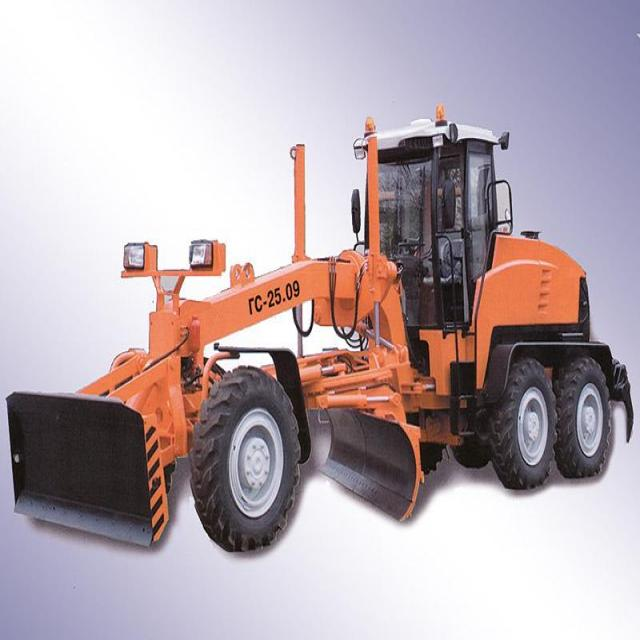Grader: (11, 100, 639, 550)
